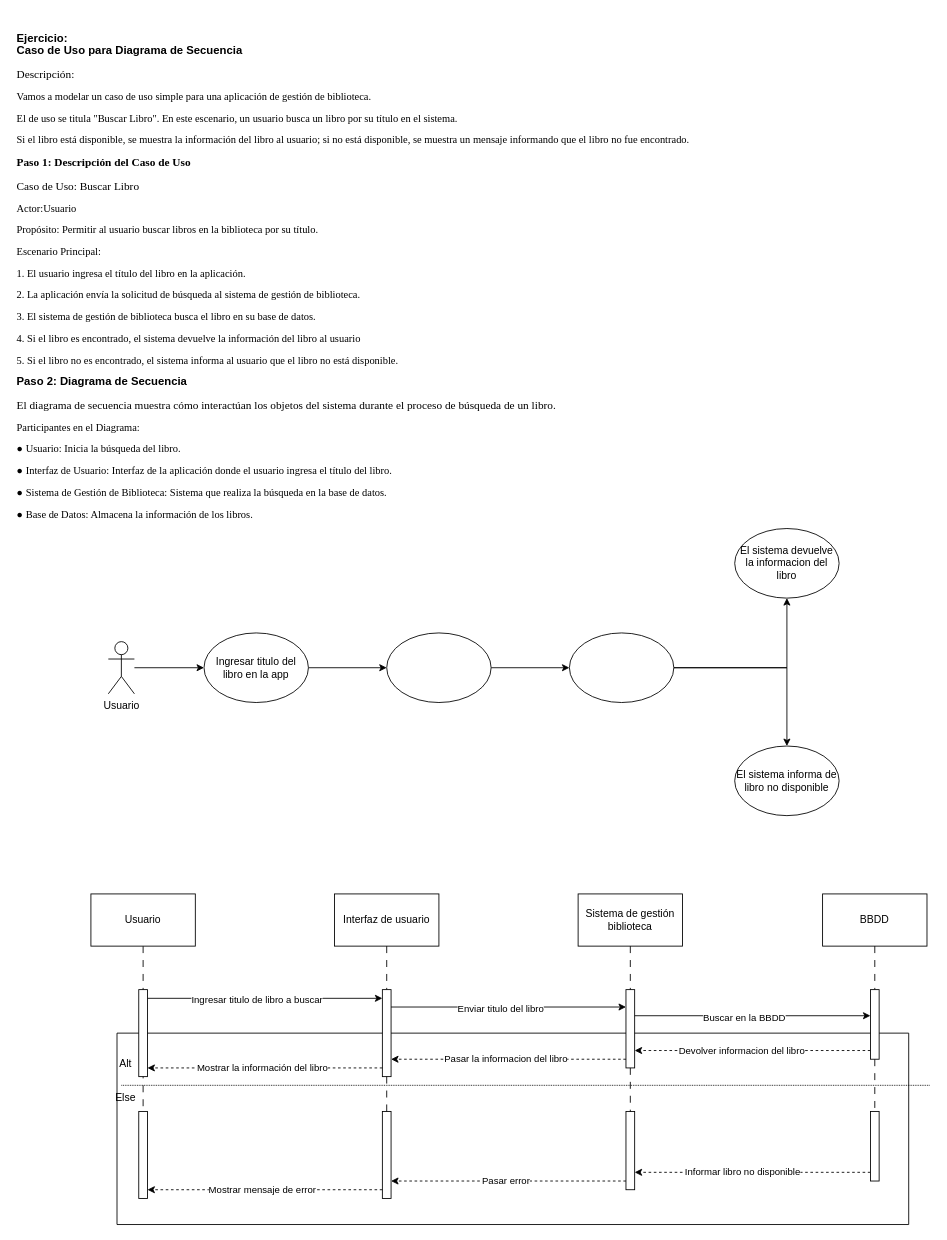
This 947x1240 diagram has some shape labels left out. Here are the shapes that lost their labels. From the top down, the box of each, then its label:
(386, 632, 491, 703): La aplicacion envía la solicitud al sistema
(569, 632, 674, 703): El sistema busca el libro en la bbdd
